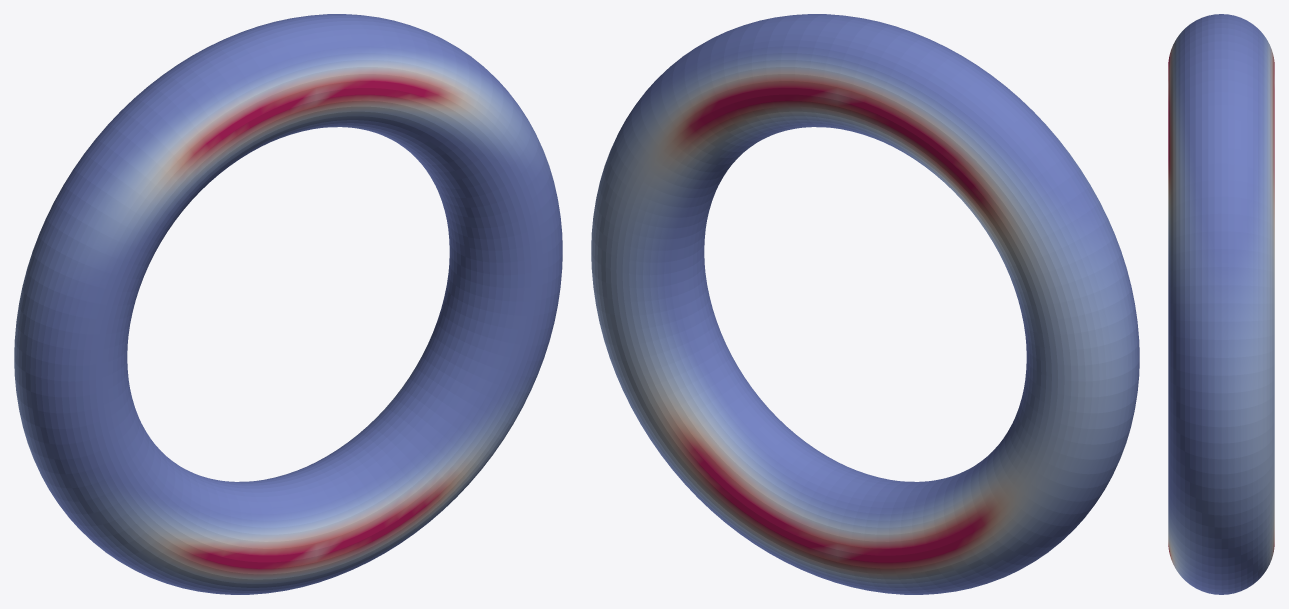
3 renders of one model, left to right at view 1: azimuth 30°, elevation 25°; view 2: azimuth 150°, elevation 25°; view 3: azimuth 270°, elevation 25°, orthographic. The views are drawn at different scales.
Parts seen in each view (by area): view 1: world; view 2: world; view 3: world.
Part boxes in pixels (x1,y1,x2,y2): world: (14,14,562,594); world: (591,14,1139,594); world: (1168,14,1274,594).
Size of the model in its own units: 19.6 by 19.6 by 3.59.
